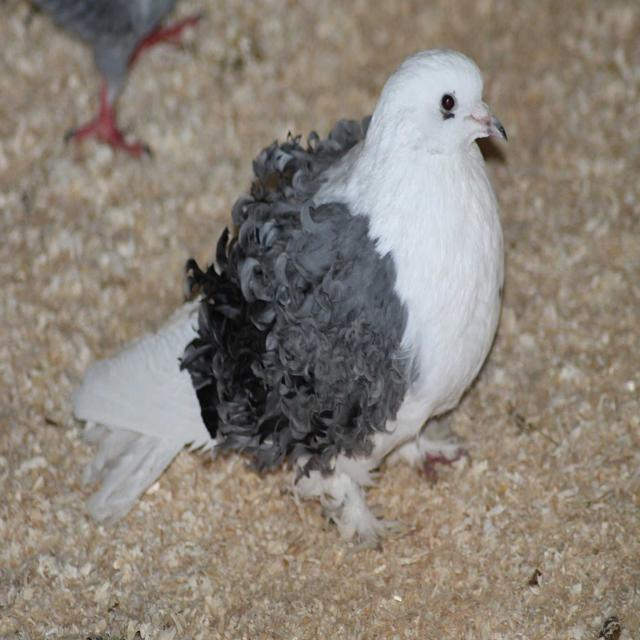pigeon: (73, 50, 508, 541)
